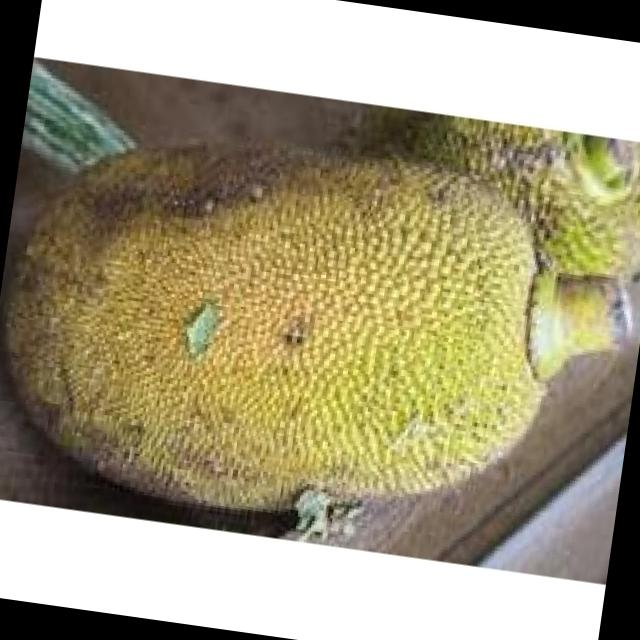Fruit: (206, 98, 610, 549), (0, 77, 387, 539)
